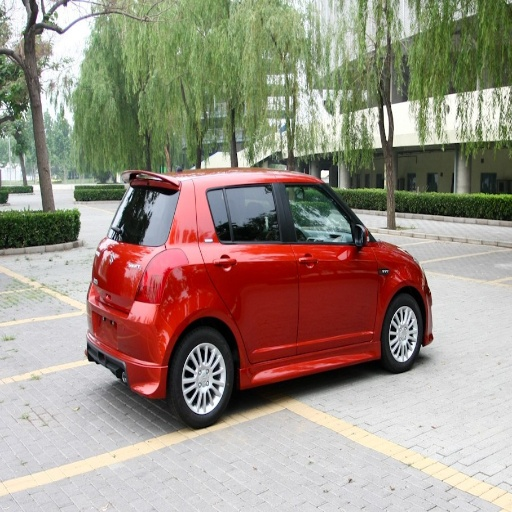back_bumper: (88, 288, 180, 373)
back_right_door: (200, 178, 298, 363)
trunk: (99, 244, 152, 310)
